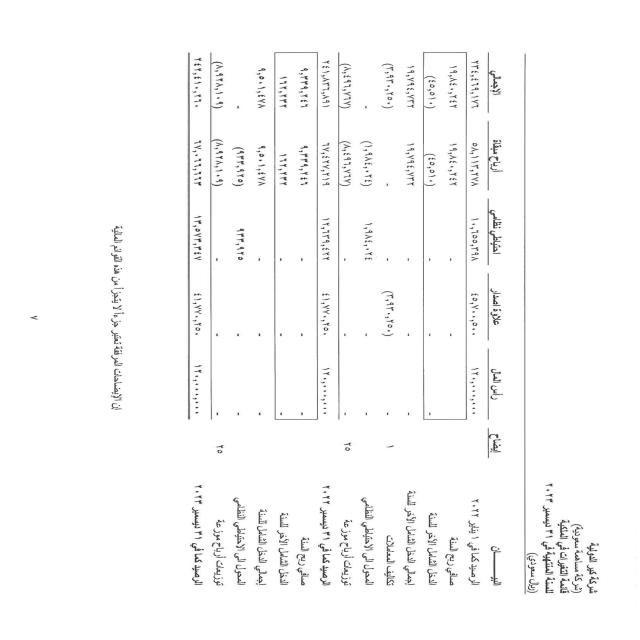financial_sheets: (556, 518, 568, 596)
table: (184, 40, 541, 472)
